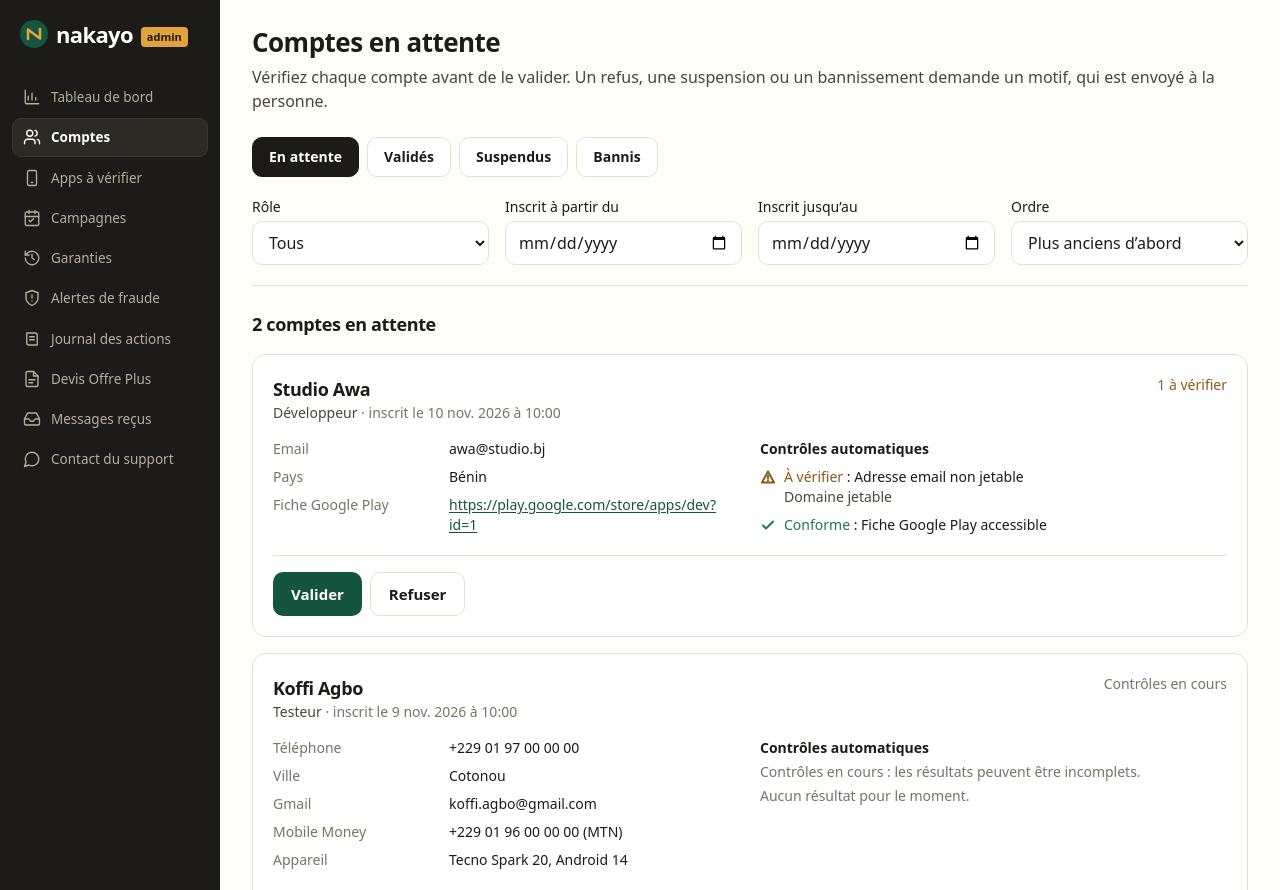
Test case: Back-office : comptes en attente (US-08) › retire un compte déjà traité par un autre administrateur
Click the button with aria-label "Valider le compte de Studio Awa": point(317, 594) [273, 572, 362, 616]
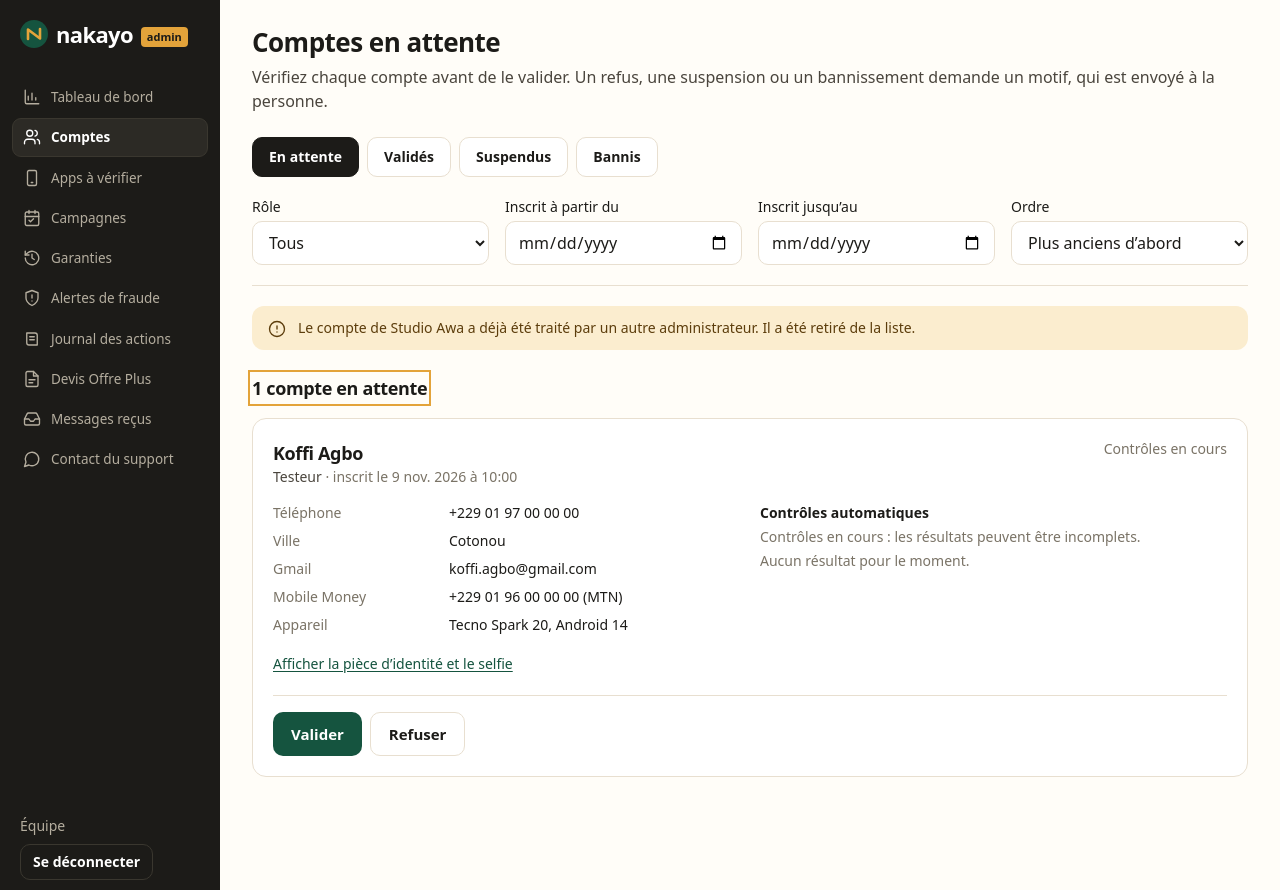
Check: the text "déjà été traité par un autre administrateur" is shown, box [298, 318, 915, 337]
